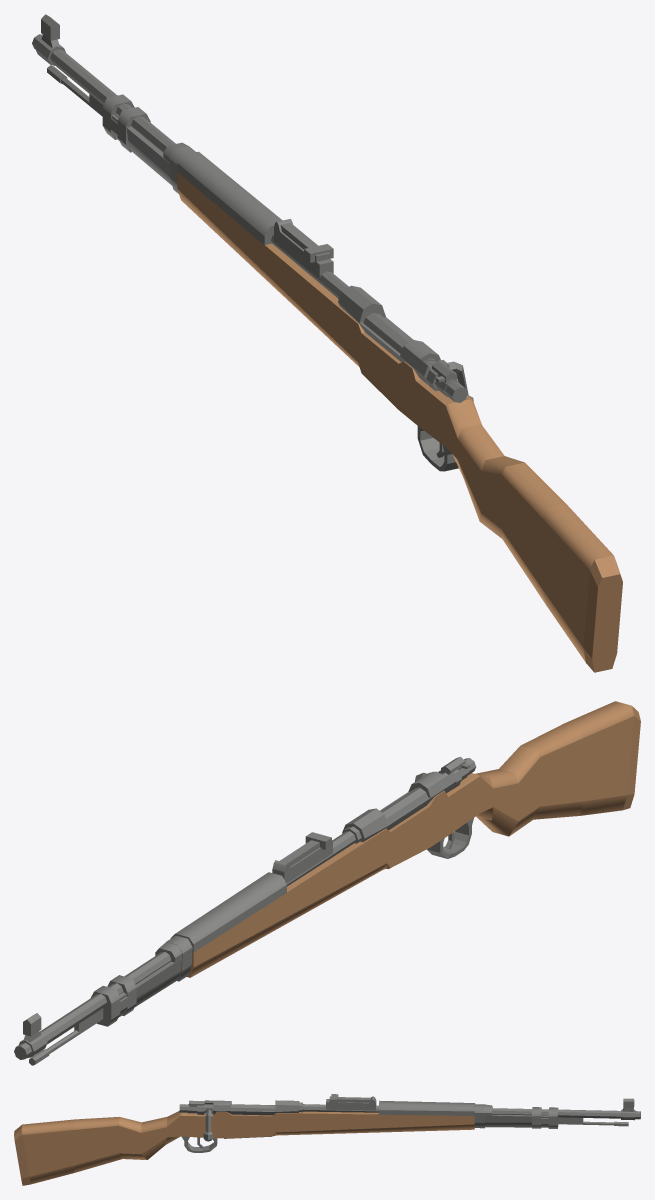
File: rifle.fbx
3 renders of one model, top to bottom at view 1: azimuth 30°, elevation 25°; view 2: azimuth 150°, elevation 25°; view 3: azimuth 270°, elevation 25°, orthographic. The views are drawn at different scales.
Parts seen in each view (by area): view 1: Kar98K; view 2: Kar98K; view 3: Kar98K.
Part boxes in pixels (left/top/right/bottom): Kar98K: left=32, top=14, right=622, bottom=672; Kar98K: left=14, top=701, right=640, bottom=1065; Kar98K: left=14, top=1094, right=640, bottom=1185.
Size of the model in its own units: 7.83 by 19.28 by 112.
